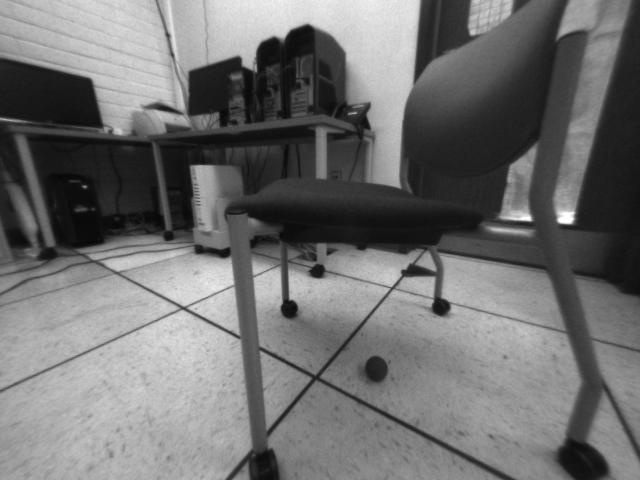dogtoy: (357, 350, 396, 386)
